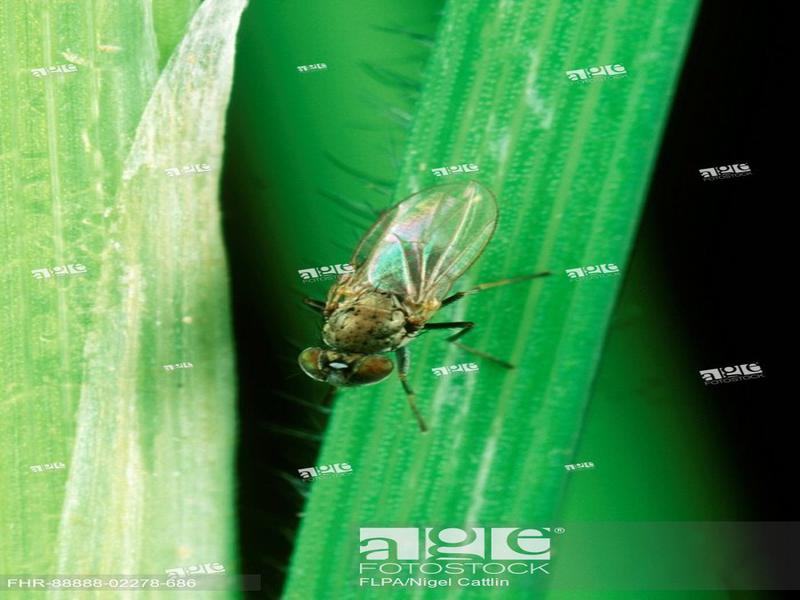Whorl_maggot: (296, 175, 507, 404)
